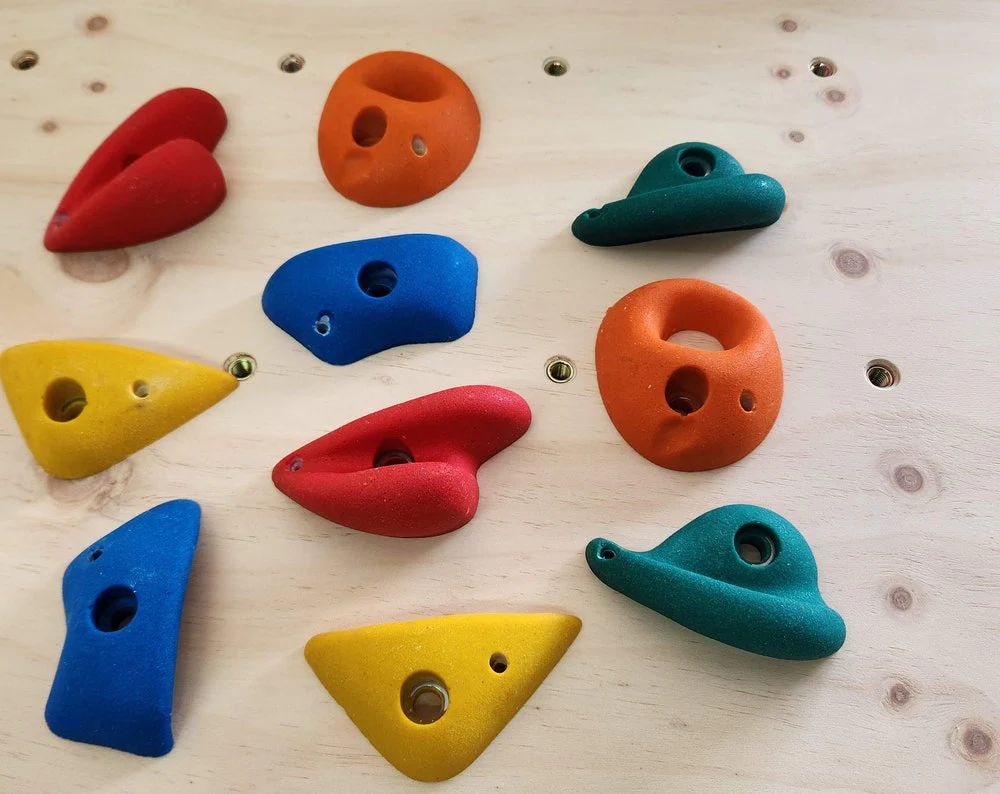hold: (303, 615, 578, 782), (587, 503, 842, 657), (270, 384, 528, 536), (46, 499, 197, 755), (596, 279, 783, 471), (0, 339, 231, 478), (43, 89, 224, 250), (261, 235, 474, 364), (317, 50, 479, 206), (574, 141, 782, 244)
